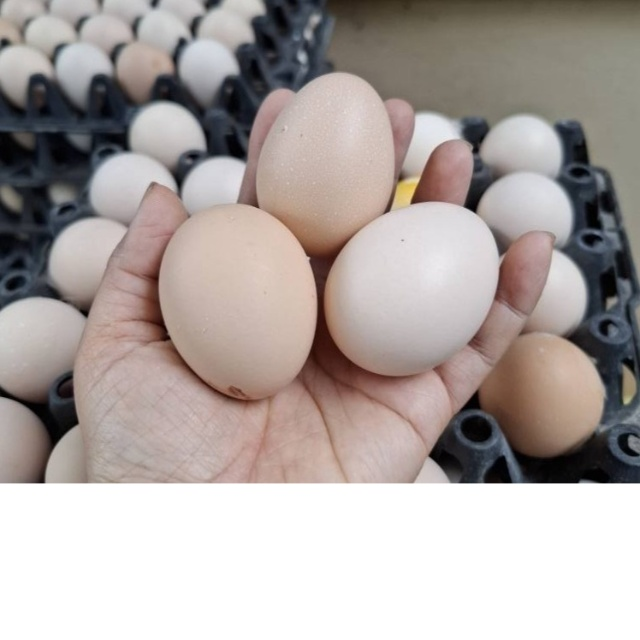trung_ga: (320, 196, 503, 379), (152, 202, 318, 403), (252, 69, 397, 260)
